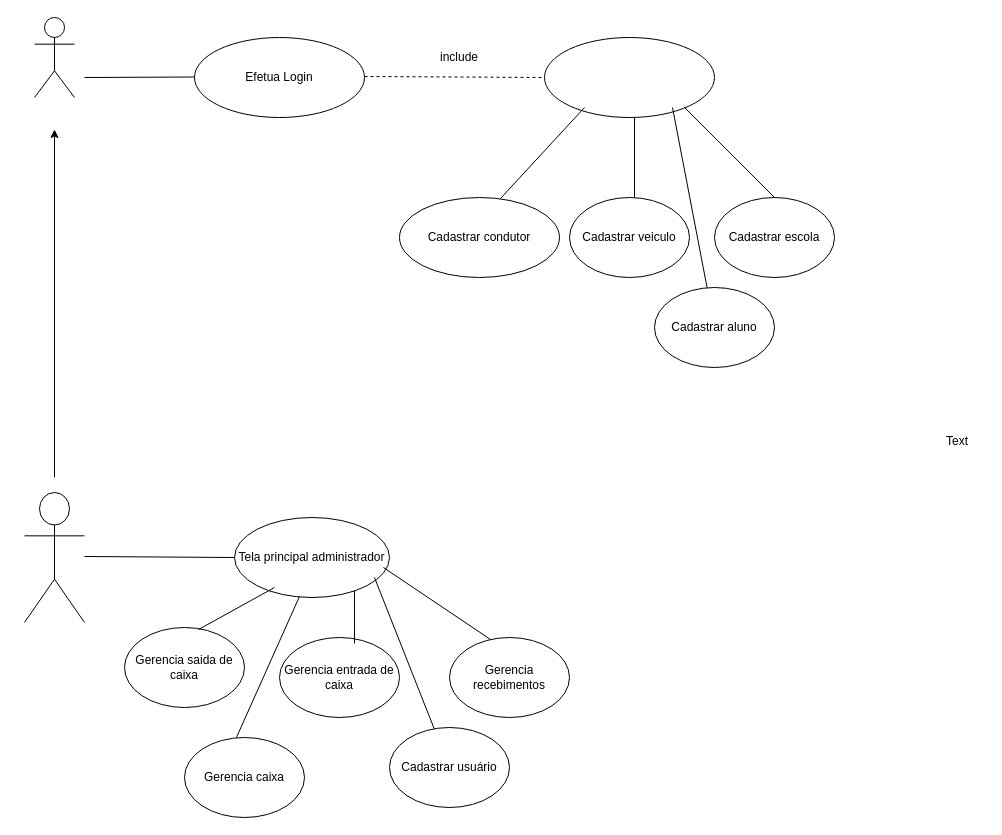
This 1002x835 diagram has some shape labels left out. The shapes that lost their labels are listed below. From the top down, each one's box as (x1, y1, x2, y2) in pixels, then its label:
(34, 16, 74, 98): Usuário
(544, 36, 714, 118): Tela principal
(24, 492, 84, 622): Administrador
